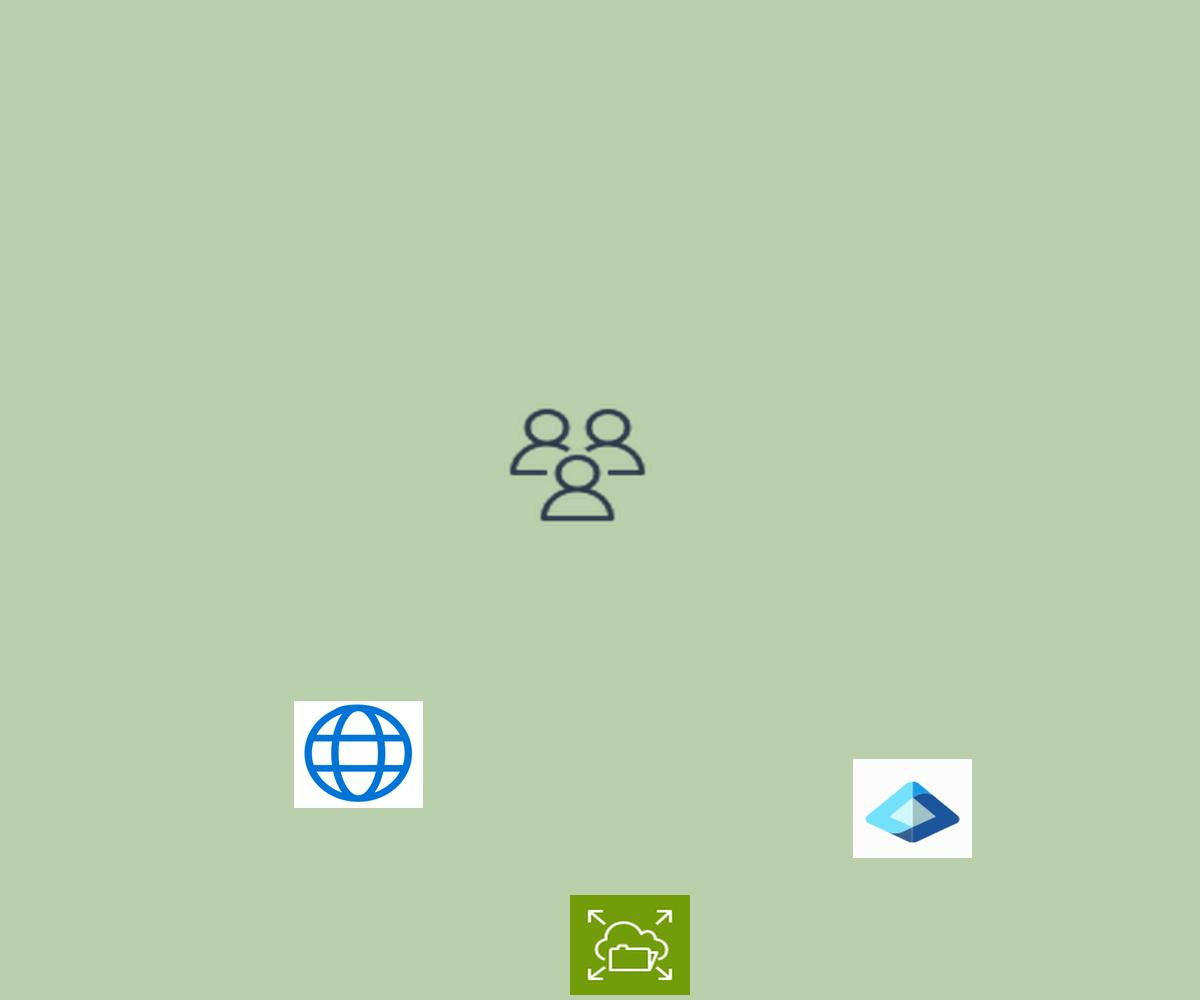AWS-EFS: (570, 895, 690, 995)
AWS-Res_Users: (504, 404, 651, 526)
Azure_http: (294, 701, 423, 808)
Azure_microsoft_entra: (853, 759, 972, 858)
